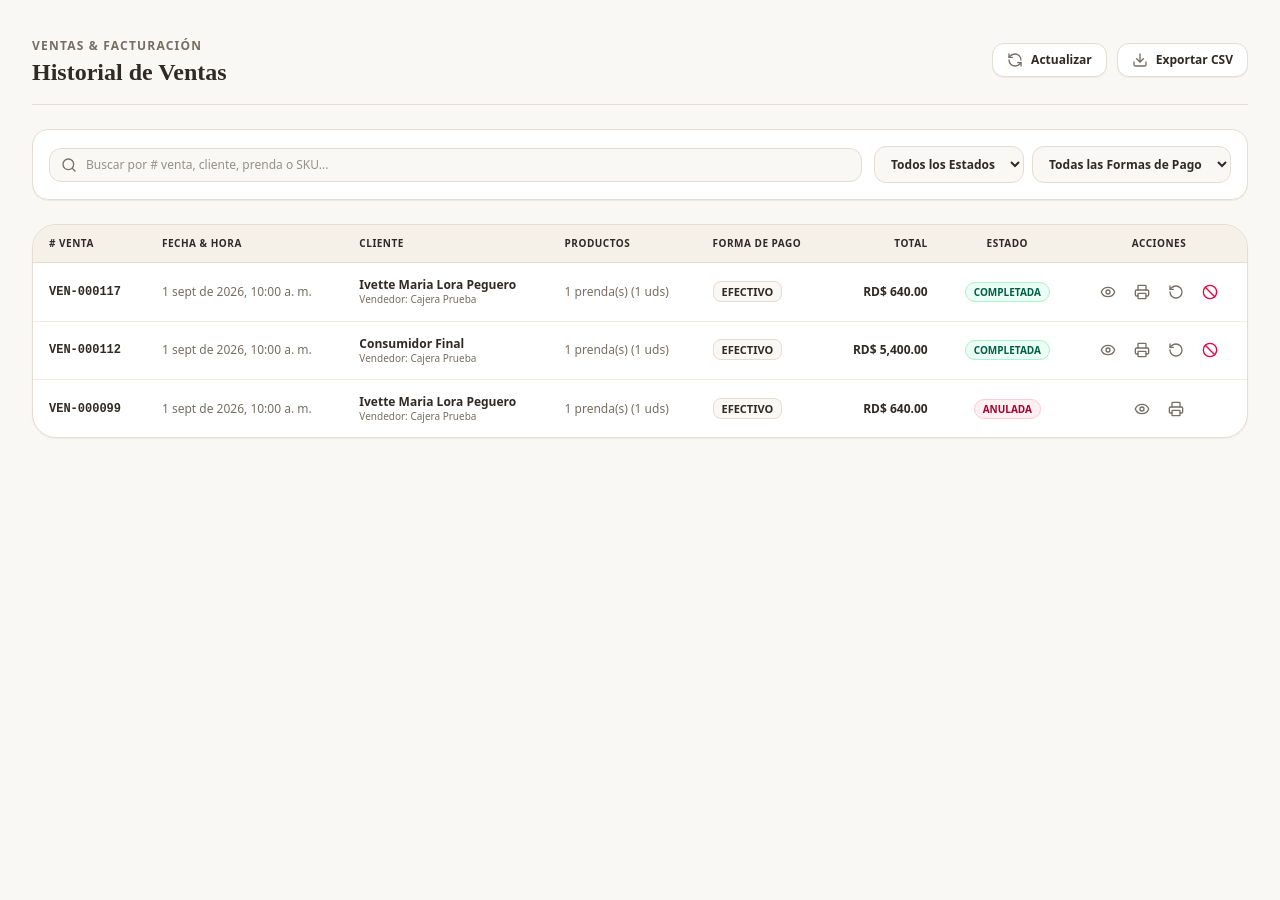
it: SalesView -- devolución directa desde Historial (botón + doble confirmación) › cancelar la primera confirmación: no navega, no muestra la segunda
Click the button named "Procesar devolución" in the row of "VEN-000117".
click(1176, 292)  # box left=1162, top=278, right=1190, bottom=306
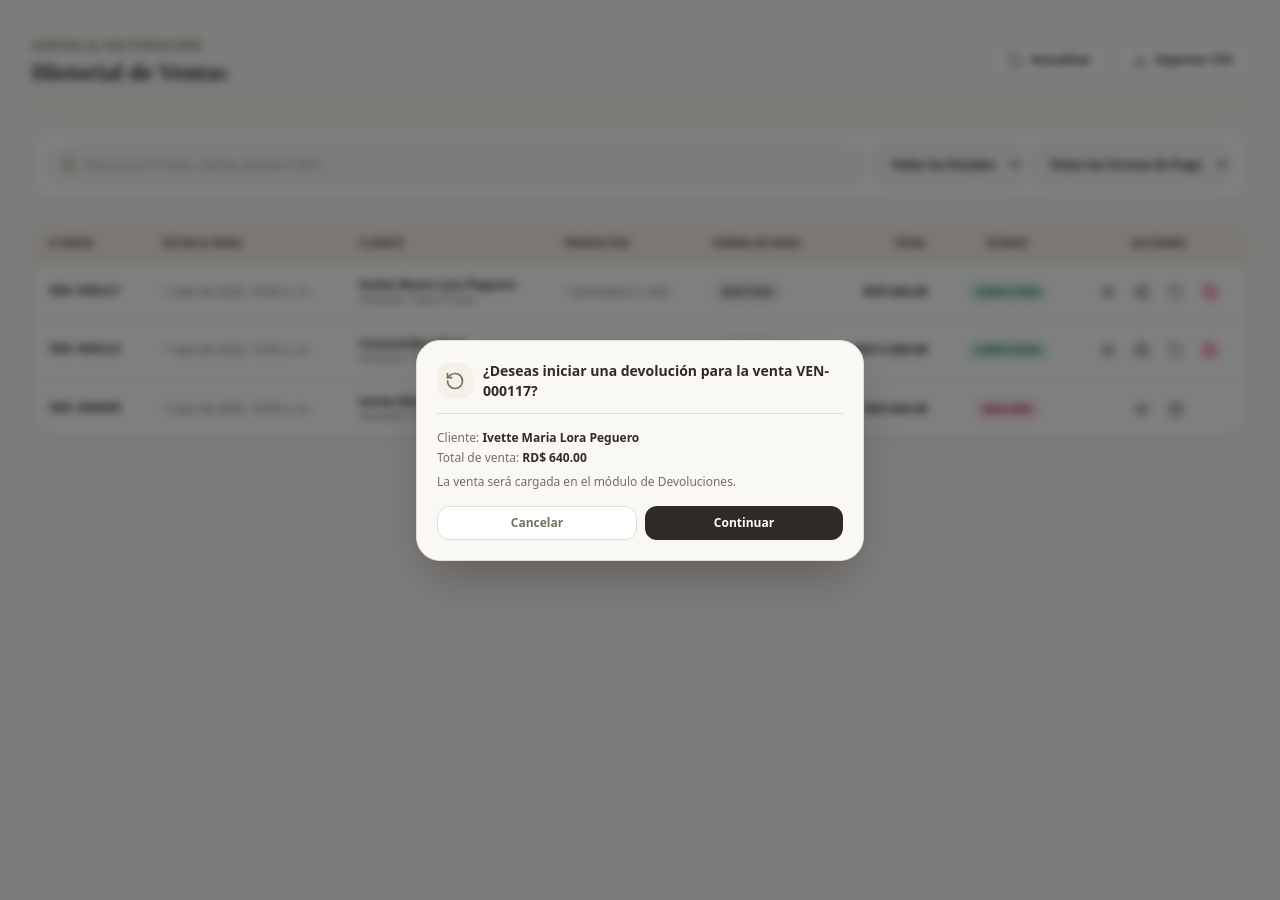
Click the button "Cancelar".
click(537, 522)  # box left=437, top=506, right=637, bottom=540
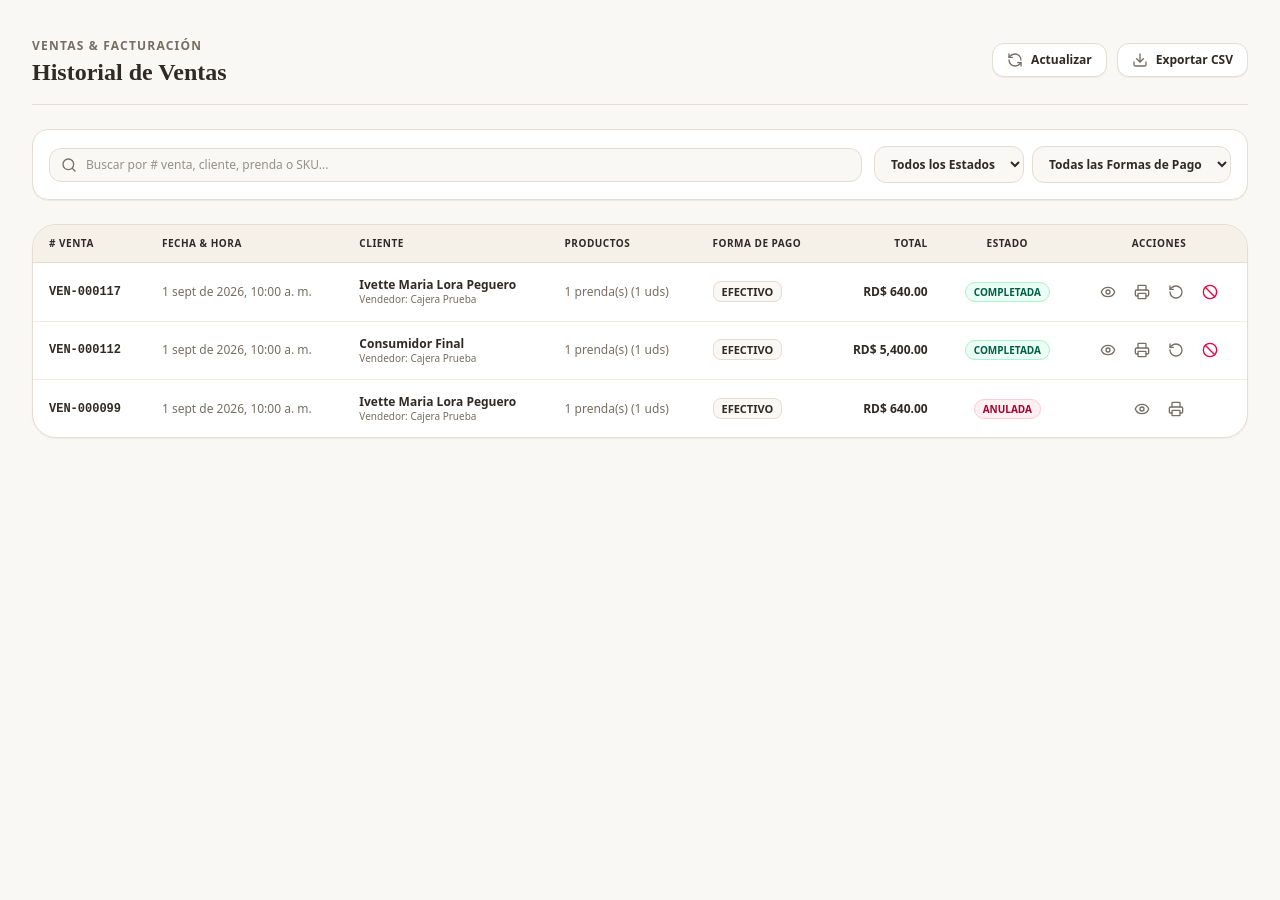
Expected: the heading "¿Deseas iniciar una devolución" is gone
